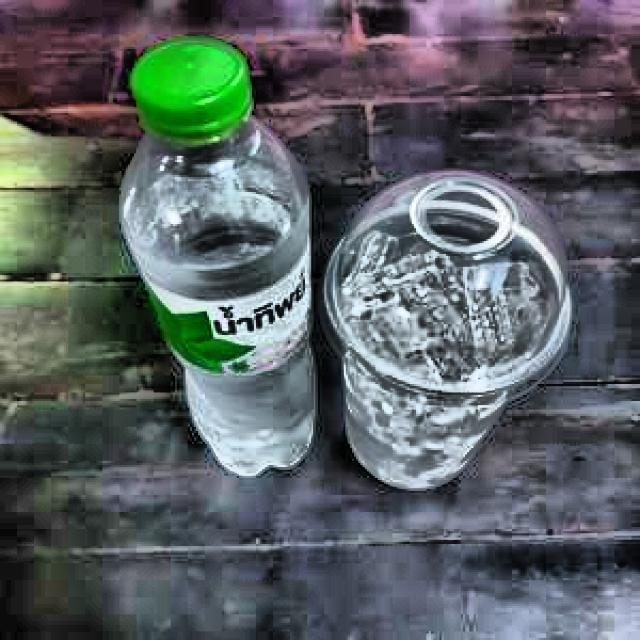Bottles: (90, 29, 357, 522)
